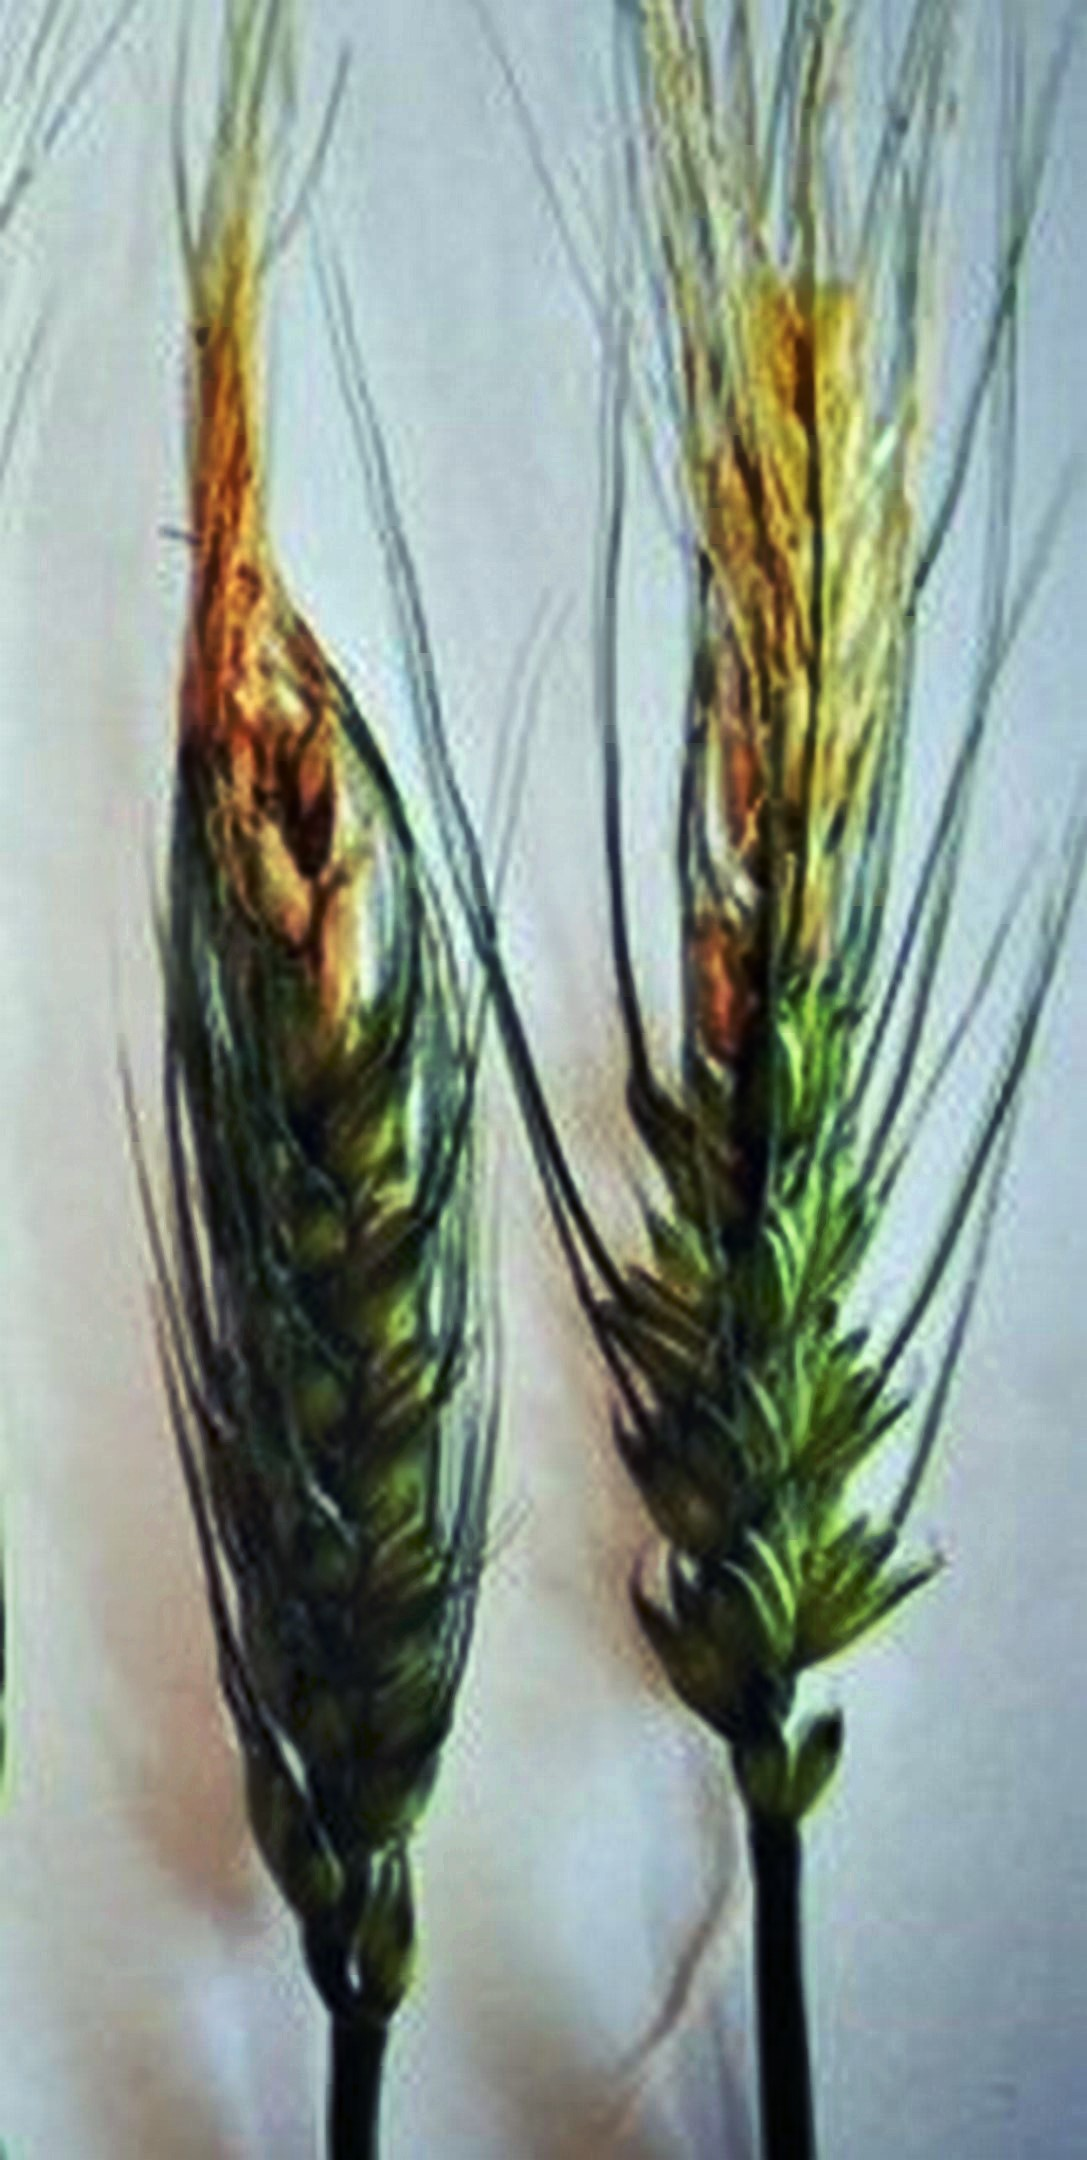Wheat scab: (123, 205, 986, 1420)
